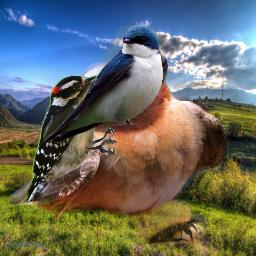Swallow: (9, 62, 227, 244), (43, 24, 168, 144)
Woodpecker: (26, 74, 117, 201)
